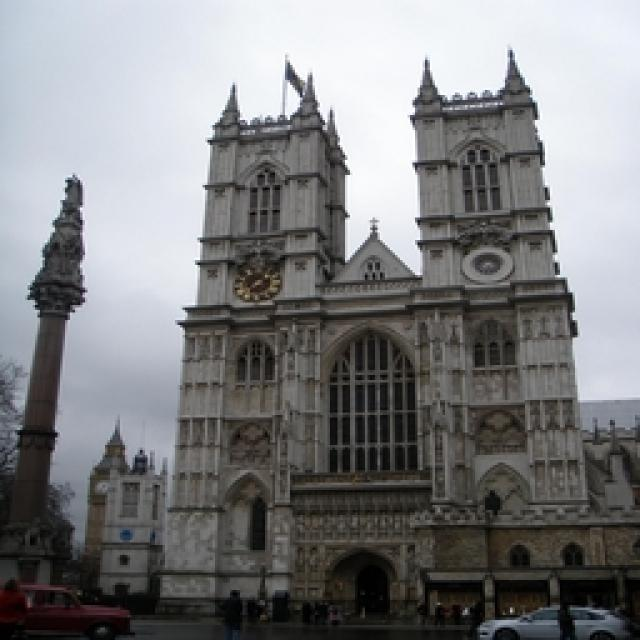Abbey: (191, 53, 595, 602)
